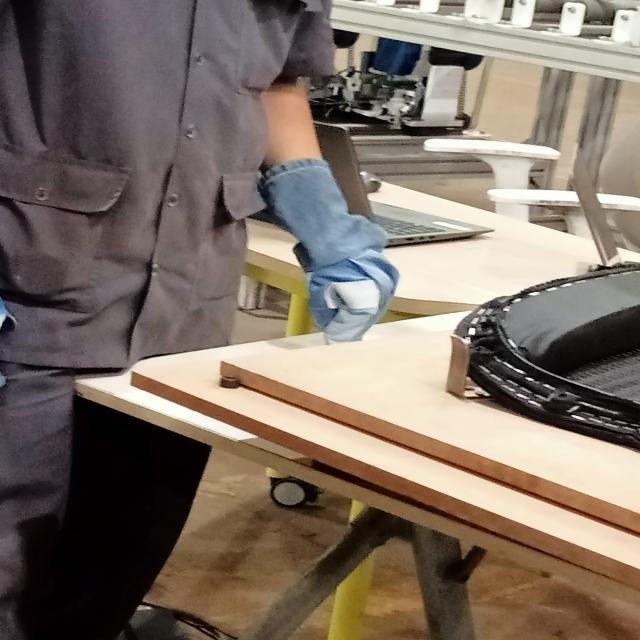Gloves-Detection: (259, 163, 396, 344)
